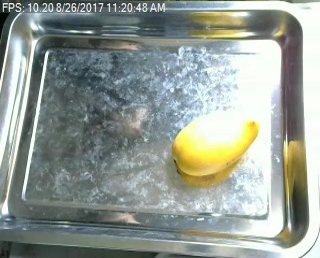Mango: (175, 112, 259, 175)
